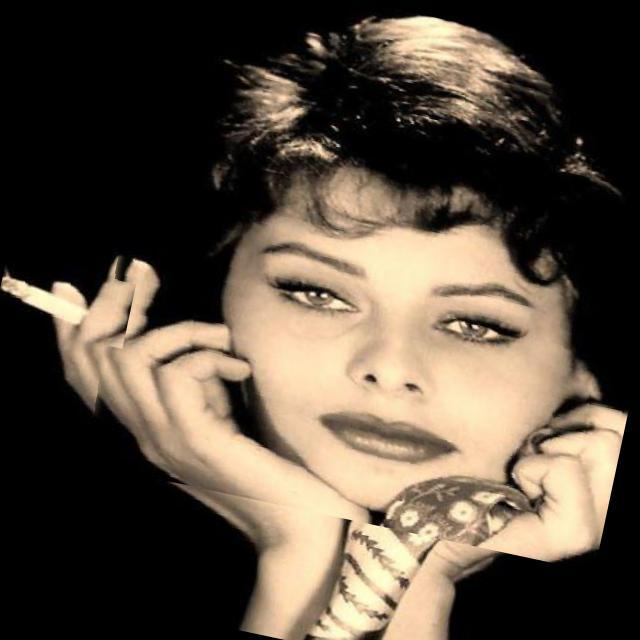cigarette: (0, 253, 136, 348)
